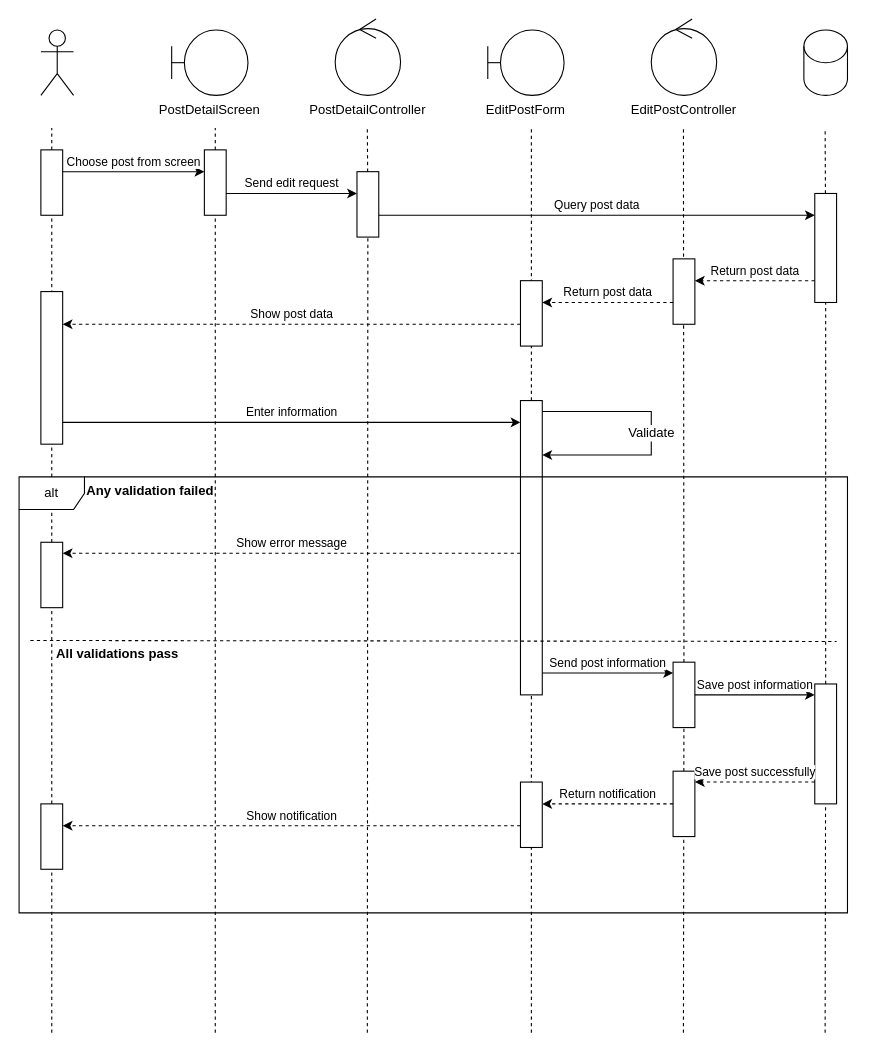
This 887x1053 diagram has some shape labels left out. The shapes that lost their labels are listed below. From the top down, each one's centre as x and y in pixels, then its label:
pixel 57 62: Actor
pixel 825 62: Post Database
